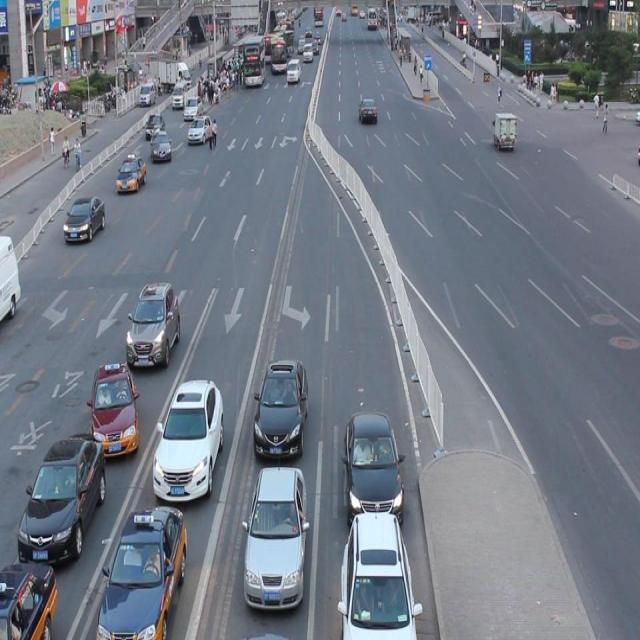car: (92, 501, 188, 640), (17, 431, 106, 568), (339, 508, 419, 640), (242, 463, 306, 611), (151, 375, 225, 501), (343, 408, 403, 527), (252, 357, 308, 460), (89, 361, 140, 460), (124, 279, 180, 369), (1, 558, 57, 640), (64, 194, 106, 244), (116, 156, 146, 194)
truck: (1, 234, 22, 318)
